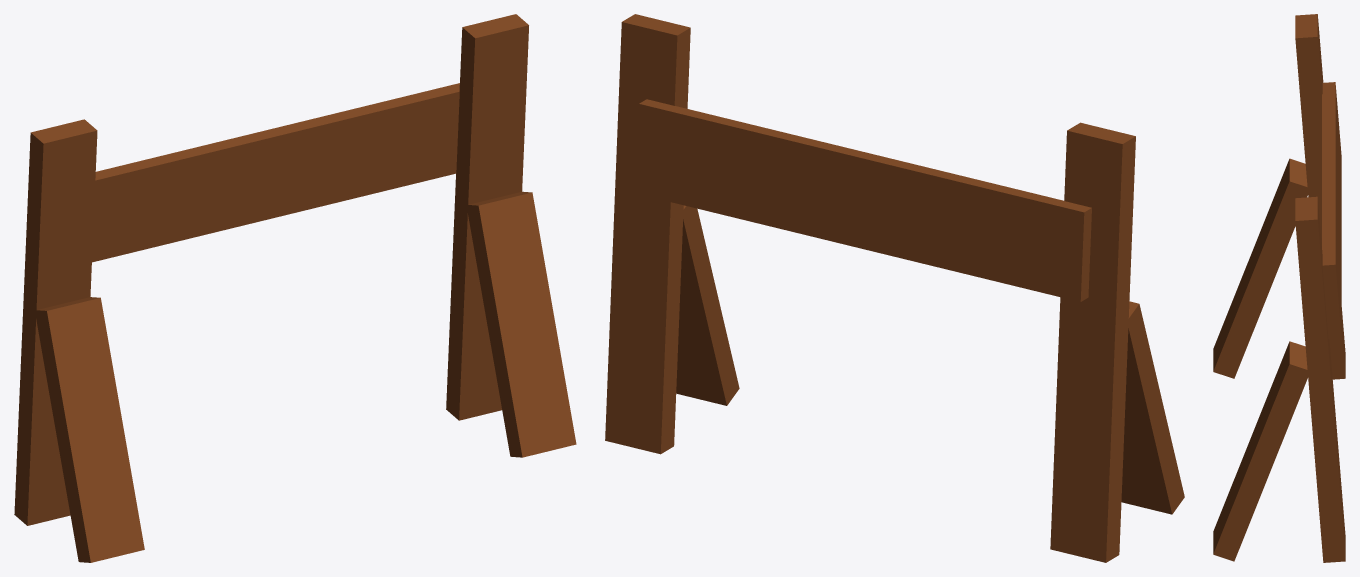
File: SlideJumpObstacle.fbx
3 views of the same model, side by side, from view 1: azimuth 30°, elevation 25°; view 2: azimuth 150°, elevation 25°; view 3: azimuth 270°, elevation 25° (orthographic). The views are drawn at different scales.
Visible parts, largest first — view 1: Main; view 2: Main; view 3: Main.
Boxes of the visible parts, x1,y1,x2,y2 form: Main: (14, 14, 576, 562); Main: (605, 14, 1184, 562); Main: (1213, 14, 1345, 562).
Bounding box in the file's own units: 180 × 140 × 49.08.
